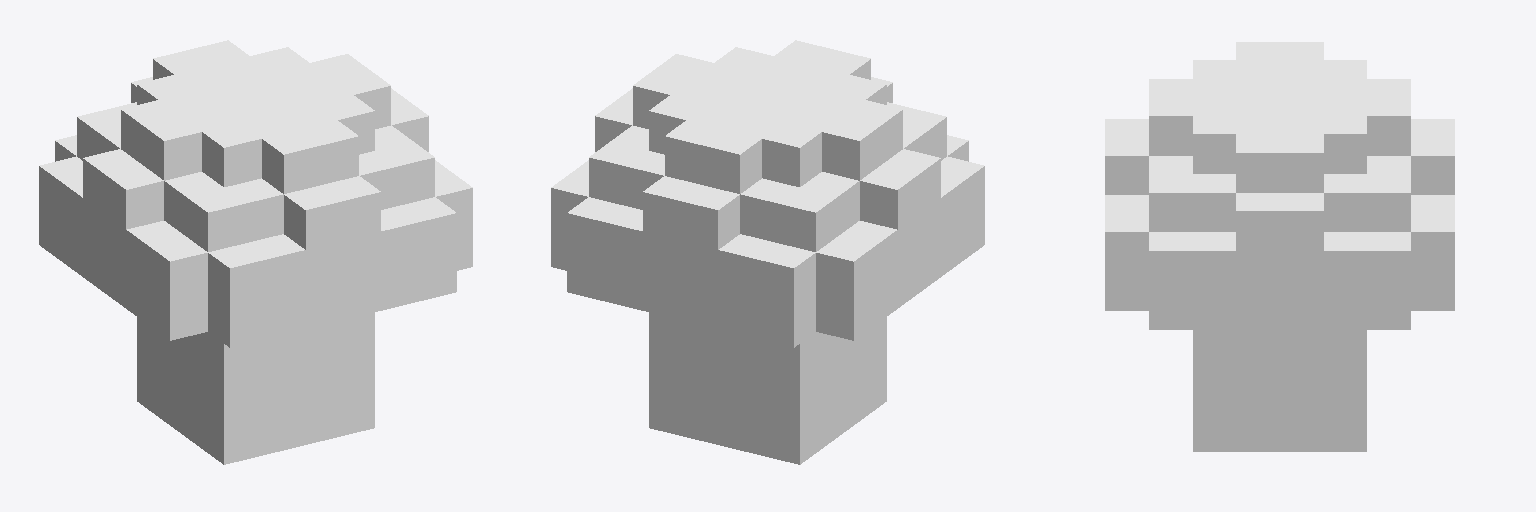
File: mushroom.obj
3 renders of one model, left to right at view 1: azimuth 30°, elevation 25°; view 2: azimuth 150°, elevation 25°; view 3: azimuth 270°, elevation 25°, orthographic.
Bounding box in the file's own units: 8 × 8 × 8.